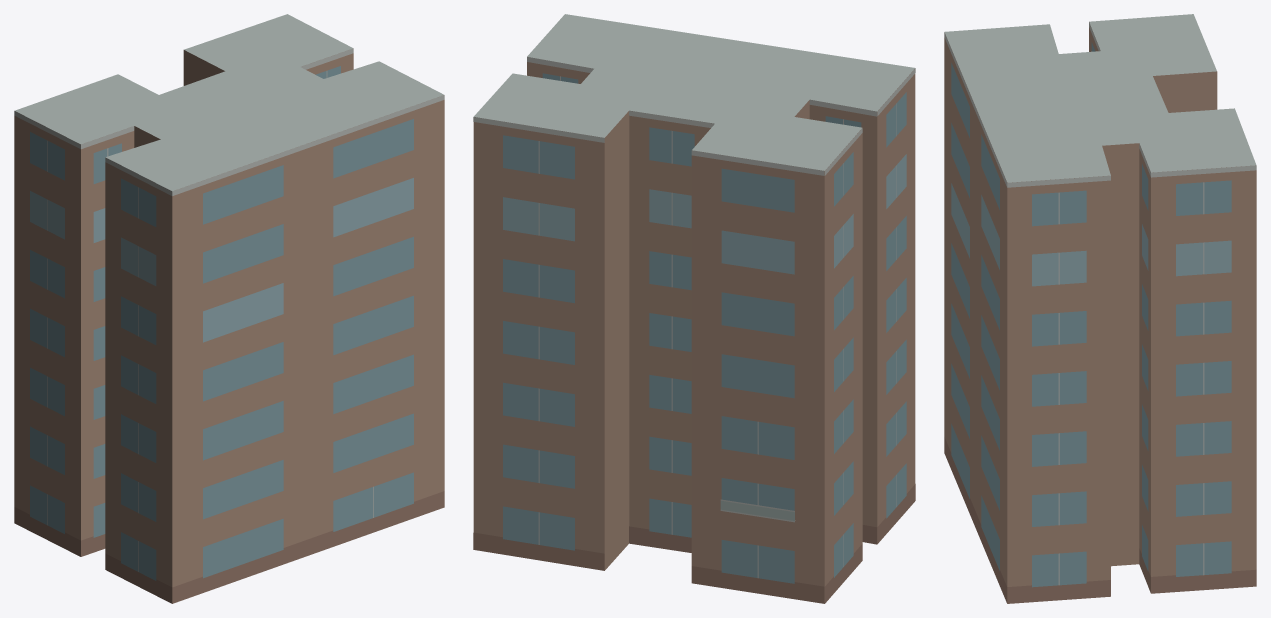
File: survey-upis-32704512.glb
3 renders of one model, left to right at view 1: azimuth 30°, elevation 25°; view 2: azimuth 150°, elevation 25°; view 3: azimuth 270°, elevation 25°, orthographic. The views are drawn at different scales.
Parts seen in each view (by area): view 1: survey-upis-32704512.tmp; view 2: survey-upis-32704512.tmp; view 3: survey-upis-32704512.tmp.
Part boxes in pixels (x1,y1,x2,y2): survey-upis-32704512.tmp: (14, 14, 444, 603); survey-upis-32704512.tmp: (473, 14, 915, 603); survey-upis-32704512.tmp: (944, 14, 1256, 603).
Bounding box in the file's own units: 17.71 × 20.6 × 13.85.
